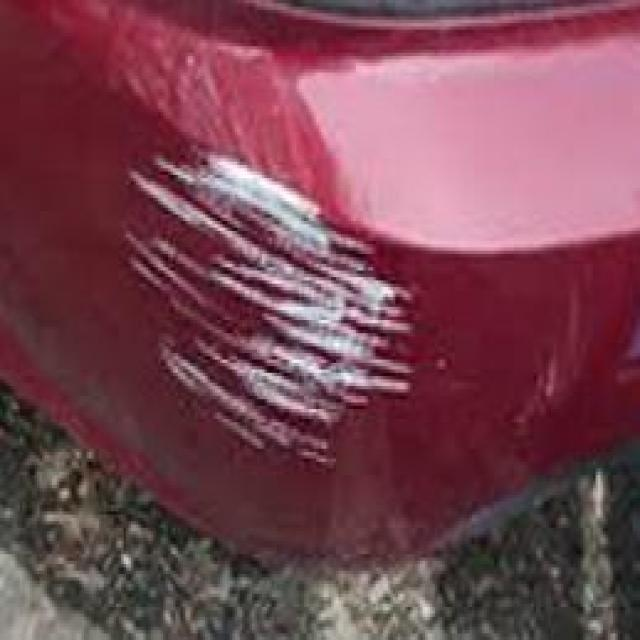scratch: (114, 142, 420, 466)
